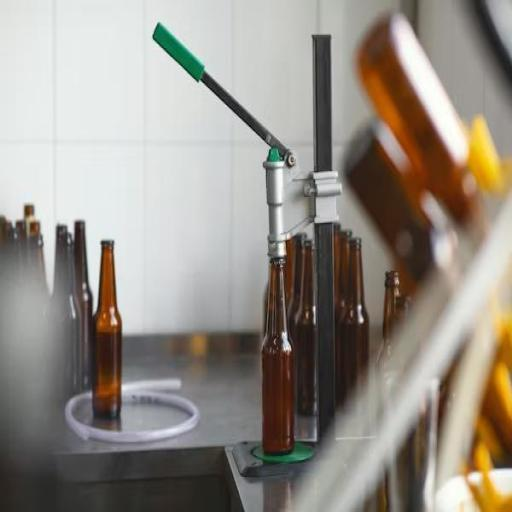bottle: (255, 238, 302, 468), (44, 215, 82, 417), (90, 232, 126, 436), (337, 229, 373, 432)
